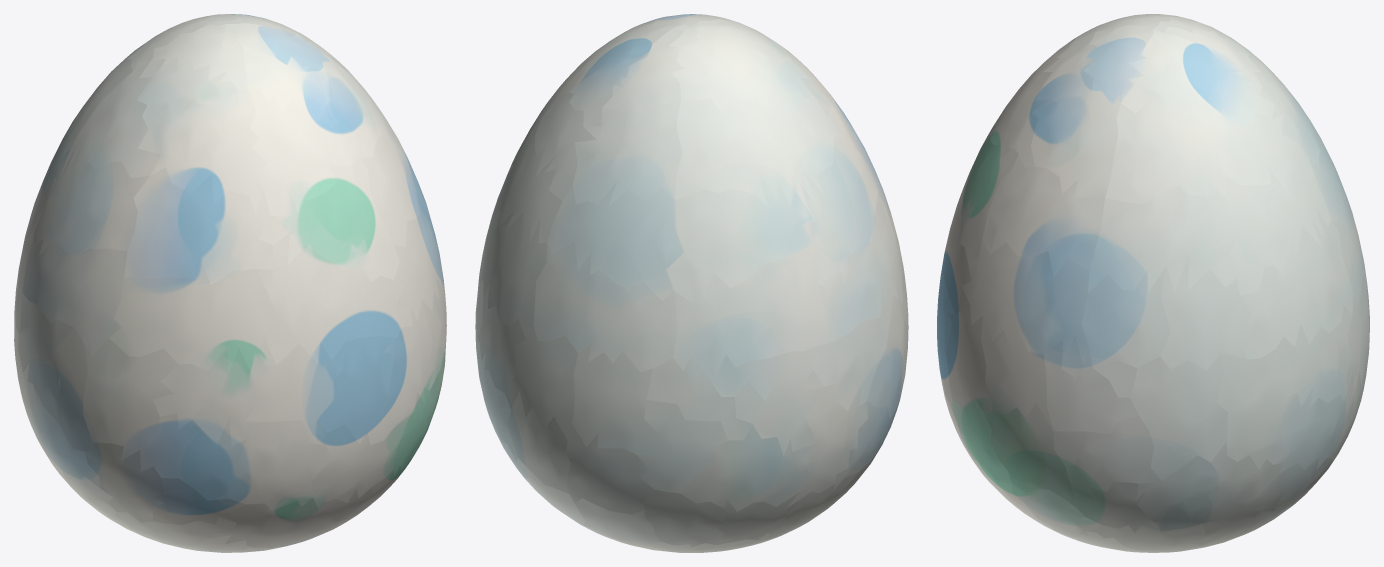
3 views of the same model, side by side, from view 1: azimuth 30°, elevation 25°; view 2: azimuth 150°, elevation 25°; view 3: azimuth 270°, elevation 25° (orthographic).
Bounding box in the file's own units: 1.51 × 1.9 × 1.51.
1 material, 1 textured.
